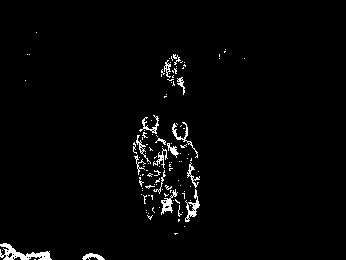person: (134, 115, 170, 220), (167, 120, 201, 225)
